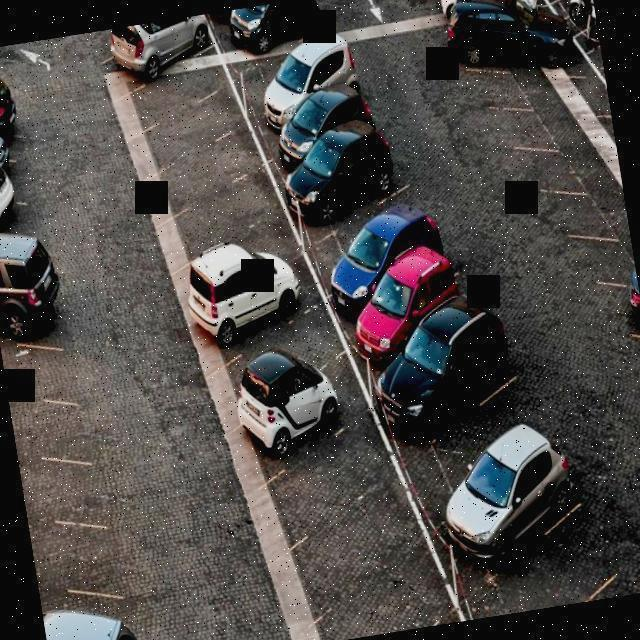space-empty: (275, 483, 426, 615), (261, 421, 399, 557), (410, 385, 550, 513), (469, 508, 620, 619), (308, 179, 433, 281), (141, 122, 258, 223), (215, 311, 340, 405), (313, 555, 450, 640), (133, 82, 251, 180), (167, 161, 281, 255), (29, 511, 128, 602), (486, 55, 611, 124), (505, 88, 617, 165), (183, 216, 297, 291), (120, 57, 230, 134), (243, 23, 340, 105), (19, 448, 109, 526), (0, 321, 78, 407), (8, 386, 87, 463), (531, 132, 623, 198), (40, 586, 139, 640), (559, 184, 629, 238), (0, 211, 45, 263)
space-occupied: (432, 436, 577, 581), (372, 322, 514, 453), (337, 276, 475, 394), (233, 363, 367, 481), (328, 232, 446, 335), (289, 131, 405, 230), (196, 252, 315, 347), (447, 0, 577, 81), (254, 55, 363, 145), (277, 94, 383, 184), (112, 15, 209, 90), (227, 0, 318, 50), (0, 262, 61, 333), (438, 0, 544, 28), (0, 155, 24, 230), (45, 620, 134, 640), (0, 114, 23, 190), (0, 72, 13, 125)
